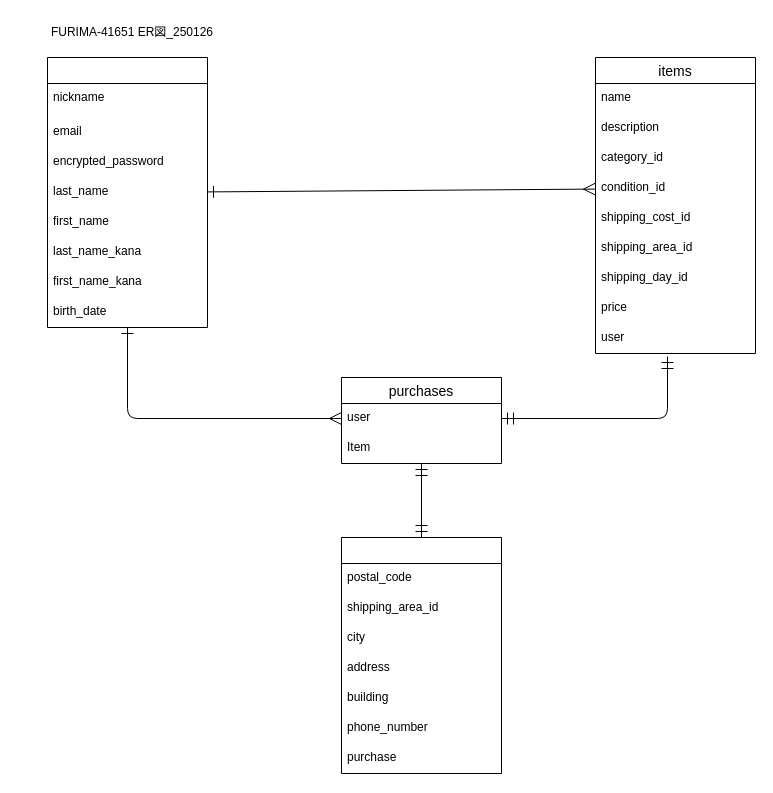
Some shapes in this 773 by 793 pixel diagram are drawn without their labels. Each missing label, with the box of its shape:
shipping_addresses: (340, 536, 502, 774)
users: (46, 56, 208, 328)
